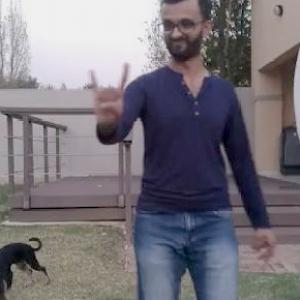takeoff-hand: (77, 55, 132, 130)
